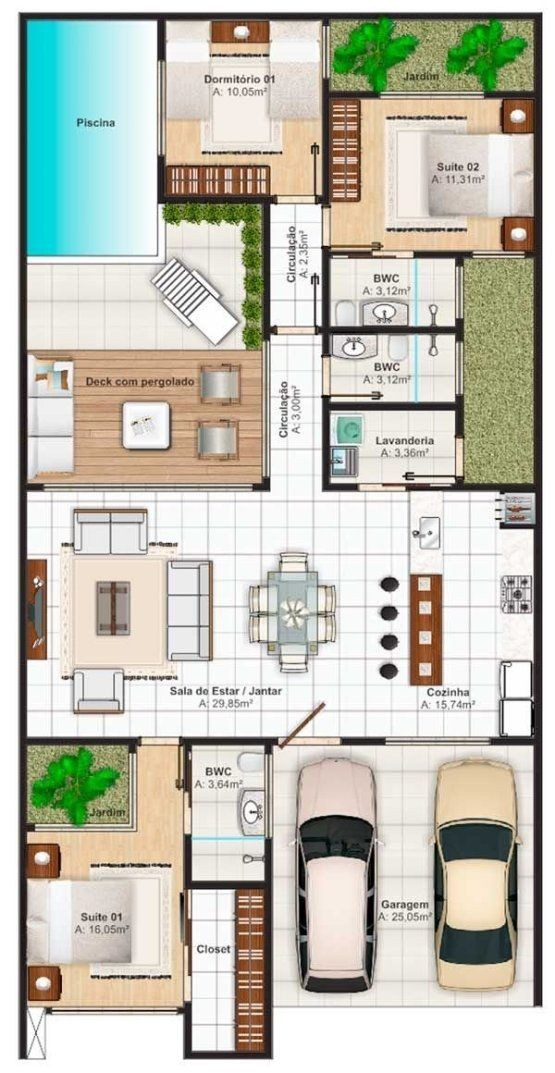room: (15, 483, 546, 751), (323, 477, 541, 749), (323, 89, 549, 260), (155, 10, 333, 205), (183, 876, 276, 1062), (179, 731, 278, 892), (317, 398, 463, 494), (321, 244, 468, 334), (318, 325, 468, 410)
